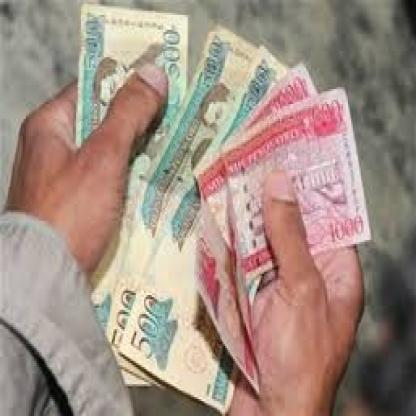billete: (73, 0, 371, 408)
